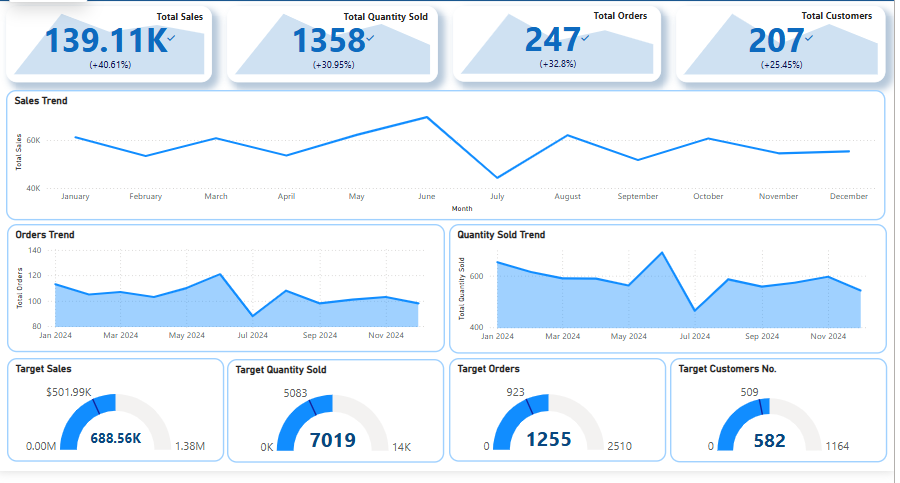

The dashboard page shown, as its layout file describes it:
{"tool":"powerbi","page":{"name":"KPIs Summary and Trend","canvas":[1280,720],"ordinal":0},"visuals":[{"type":"kpi","fields":{"TrendLine":["Sales data 2024.product_category"],"Indicator":["Count(Sales data 2024.customer_id)"],"Goal":["Count(Sales data 2023.customer_id)"]},"box":[968.9,57.8,298.9,108.9],"z":0,"group":"g1"},{"type":"kpi","fields":{"Indicator":["Sum(Sales data 2024.sales)"],"Goal":["Sum(Sales data 2023.Sales)"],"TrendLine":["Sales data 2024.product_category"]},"box":[13.3,57.8,294.4,108.9],"z":1000,"group":"g1"},{"type":"shape","box":[0,0,1280,50],"z":2000,"group":"g1"},{"type":"kpi","fields":{"TrendLine":["Sales data 2024.product_category"],"Indicator":["Sum(Sales data 2024.quantity_sold)"],"Goal":["Sum(Sales data 2023.Quantity_Sold)"]},"box":[328.9,57.8,301.1,108.9],"z":3000,"group":"g1"},{"type":"kpi","fields":{"TrendLine":["Sales data 2024.product_category"],"Indicator":["CountNonNull(Sales data 2024.order_id)"],"Goal":["CountNonNull(Sales data 2023.order_id)"]},"box":[651.1,57.8,296.7,107.8],"z":4000,"group":"g1"},{"type":"areaChart","title":"Quantity Sold Trend ","fields":{"Category":["Sales data 2024.date.Variation.Date Hierarchy.Year","Sales data 2024.date.Variation.Date Hierarchy.Quarter","Sales data 2024.date.Variation.Date Hierarchy.Month","Sales data 2024.date.Variation.Date Hierarchy.Day"],"Y":["Sum(Sales data 2024.quantity_sold)"]},"box":[644.8,367.7,625.4,184.6],"z":5000,"group":"g1"},{"type":"textbox","box":[222.2,58.9,98.9,34.4],"z":6000,"group":"g1"},{"type":"lineChart","title":"Sales Trend ","fields":{"Y":["Sum(Sales data 2024.sales)"],"Category":["Sales data 2024.date.Variation.Date Hierarchy.Year","Sales data 2024.date.Variation.Date Hierarchy.Quarter","Sales data 2024.date.Variation.Date Hierarchy.Month","Sales data 2024.date.Variation.Date Hierarchy.Day"]},"box":[12.5,176.2,1255,186],"z":7000,"group":"g1"},{"type":"textbox","box":[490,58.9,154.4,34.4],"z":8000,"group":"g1"},{"type":"areaChart","title":"Orders Trend","fields":{"Category":["Sales data 2024.date.Variation.Date Hierarchy.Year","Sales data 2024.date.Variation.Date Hierarchy.Quarter","Sales data 2024.date.Variation.Date Hierarchy.Month","Sales data 2024.date.Variation.Date Hierarchy.Day"],"Y":["CountNonNull(Sales data 2024.order_id)"]},"box":[13.8,368.8,625,183],"z":9000,"group":"g1"},{"type":"gauge","title":"Target Sales","fields":{"Y":["Sum(Sales data 2024.sales)"],"TargetValue":["Sum(Sales data 2023.Sales)"]},"box":[13.6,560,310,147.8],"z":10000,"group":"g1"},{"type":"textbox","box":[845.6,57.8,112.2,34.4],"z":11000,"group":"g1"},{"type":"gauge","title":"Target Quantity Sold","fields":{"Y":["Sum(Sales data 2024.quantity_sold)"],"TargetValue":["Sum(Sales data 2023.Quantity_Sold)"]},"box":[328.5,561,310,148],"z":12000,"group":"g1"},{"type":"gauge","title":"Target Orders","fields":{"Y":["CountNonNull(Sales data 2024.order_id)"],"TargetValue":["CountNonNull(Sales data 2023.order_id)"]},"box":[644.5,560,310,148],"z":13000,"group":"g1"},{"type":"textbox","title":"Business Performance Dashboard","box":[13.3,11.1,571.1,27.8],"z":14000,"group":"g1"},{"type":"gauge","title":"Target Customers No.","fields":{"Y":["Count(Sales data 2024.customer_id)"],"TargetValue":["Count(Sales data 2023.customer_id)"]},"box":[960.3,560,310,148.9],"z":15000,"group":"g1"},{"type":"textbox","box":[1143.3,57.8,136.7,35.6],"z":16000,"group":"g1"},{"type":"slicer","fields":{"Values":["Sales data 2024.Quarter"]},"box":[924.4,0,246.7,50],"z":17000,"group":"g1"},{"type":"actionButton","box":[1226.7,3.3,43.3,44.4],"z":18000,"group":"g1"},{"type":"group","id":"g1","title":"Group 1","box":[0,0,1280,709],"z":18001}]}

Visuals, with their boxes on the page's 1280x720 design canvas (x1, y1, x2, y2). These are canvas units, not pixel positions in the 900x483 screenshot, which may show the page scaled, cropped or inside an application window:
kpi - Sales data 2024.product_category x Count(Sales data 2024.customer_id): region(969, 58, 1268, 167)
kpi - Sum(Sales data 2024.sales) x Sum(Sales data 2023.Sales): region(13, 58, 308, 167)
shape: region(0, 0, 1280, 50)
kpi - Sales data 2024.product_category x Sum(Sales data 2024.quantity_sold): region(329, 58, 630, 167)
kpi - Sales data 2024.product_category x CountNonNull(Sales data 2024.order_id): region(651, 58, 948, 166)
"Quantity Sold Trend " areaChart: region(645, 368, 1270, 552)
textbox: region(222, 59, 321, 93)
"Sales Trend " lineChart: region(12, 176, 1268, 362)
textbox: region(490, 59, 644, 93)
"Orders Trend" areaChart: region(14, 369, 639, 552)
"Target Sales" gauge: region(14, 560, 324, 708)
textbox: region(846, 58, 958, 92)
"Target Quantity Sold" gauge: region(328, 561, 638, 709)
"Target Orders" gauge: region(644, 560, 954, 708)
"Business Performance Dashboard" textbox: region(13, 11, 584, 39)
"Target Customers No." gauge: region(960, 560, 1270, 709)
textbox: region(1143, 58, 1280, 93)
slicer - Sales data 2024.Quarter: region(924, 0, 1171, 50)
actionButton: region(1227, 3, 1270, 48)
"Group 1" group: region(0, 0, 1280, 709)
